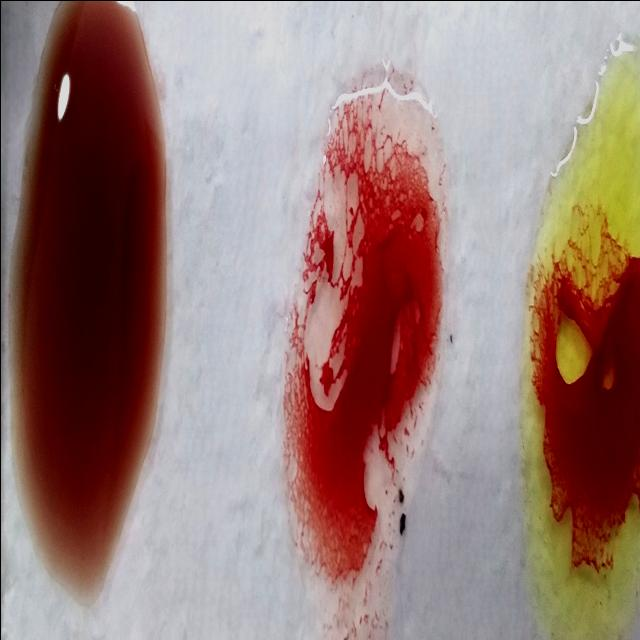B: (520, 38, 638, 632)
D: (298, 87, 426, 621)
